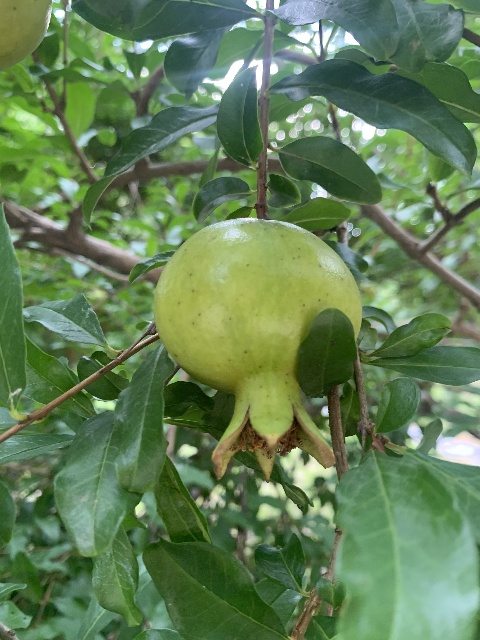mid-growth: (152, 217, 363, 482)
